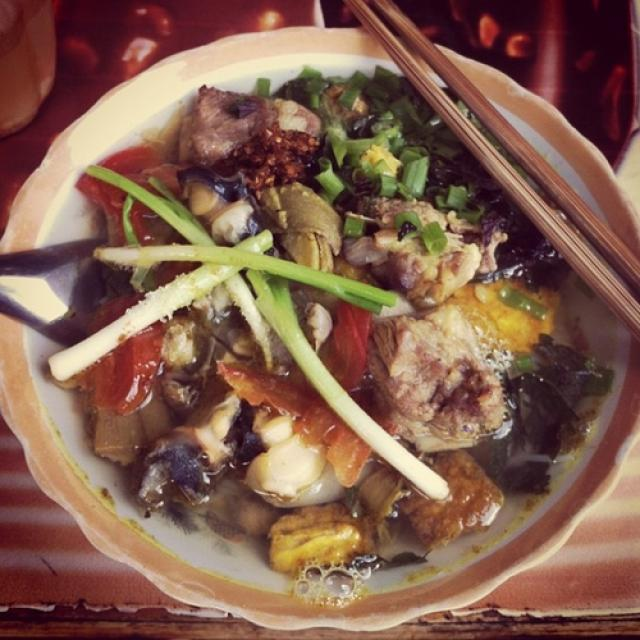面条主食: (22, 26, 626, 608)
